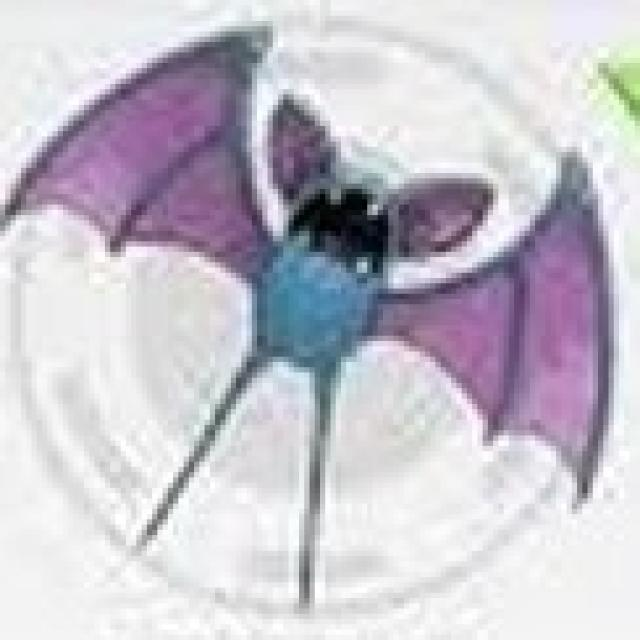Zubat: (124, 38, 537, 469)
